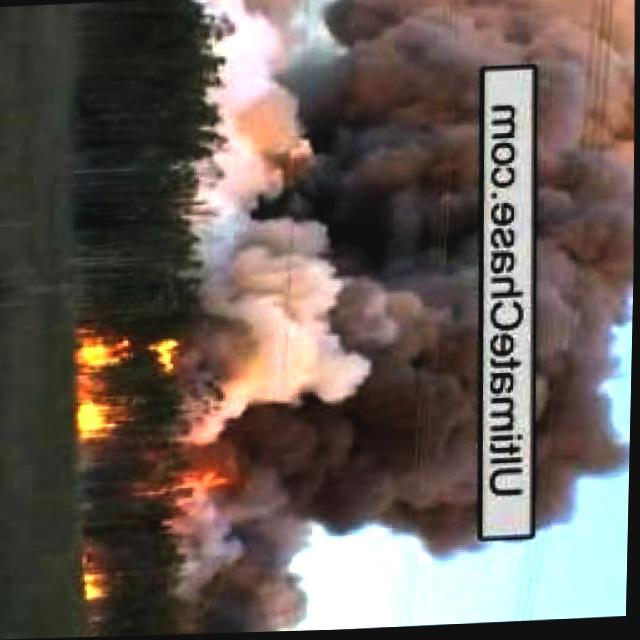Fire: (73, 327, 186, 438), (83, 542, 121, 604), (152, 464, 236, 492)
Smoke: (192, 0, 484, 635), (537, 0, 640, 526)
